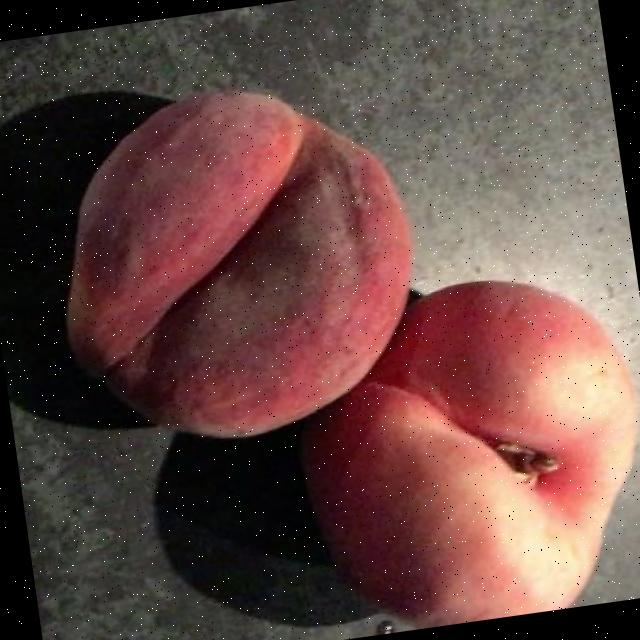peach: (59, 83, 640, 614)
